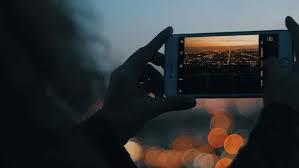Hand: (105, 21, 192, 123), (274, 15, 299, 138)
Smartphone: (171, 37, 293, 98)
